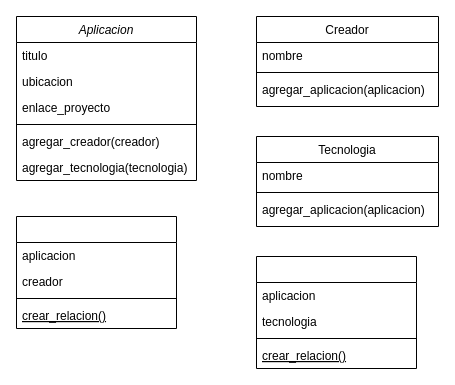
Image size: 455x385. Some labels were removed from this diagram. The shapes that lost their labels are listed below. From the top down, each one's box as (x1, y1, x2, y2) in pixels, then its label:
(16, 216, 176, 328): RelacionAppCreador
(256, 256, 416, 368): RelacionAppTecnologia
